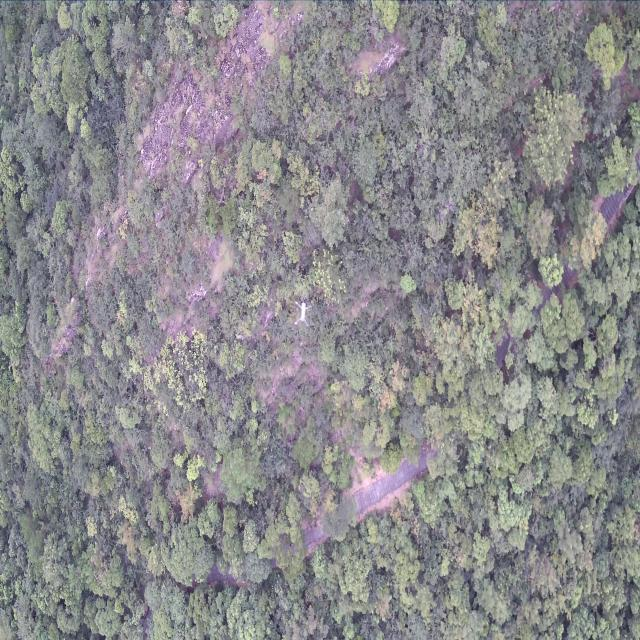drone: (294, 301, 312, 327)
